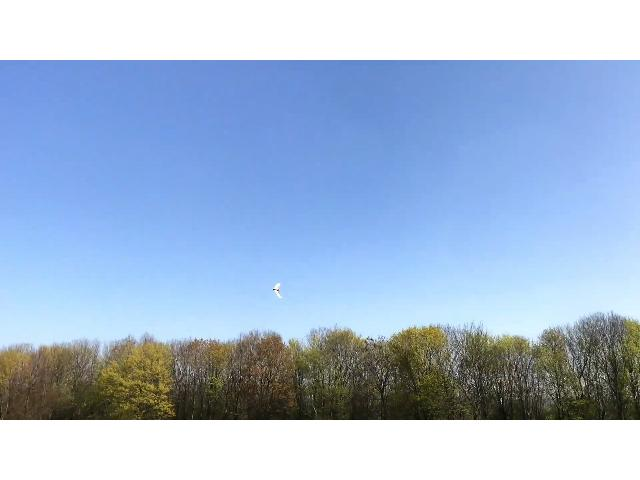Anti-Drone: (268, 278, 292, 304)
